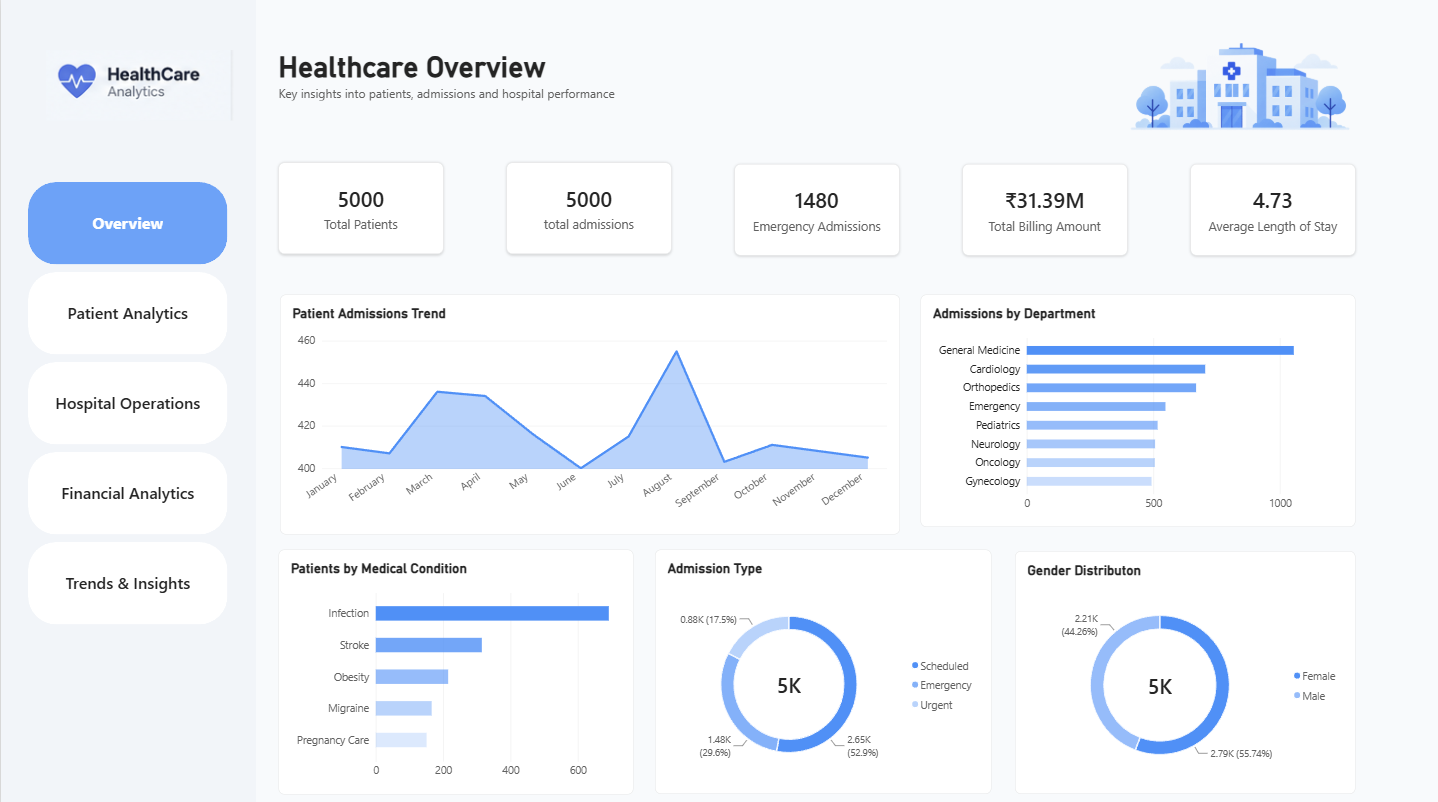

The dashboard page shown, as its layout file describes it:
{"tool":"powerbi","page":{"name":"Overview","canvas":[1920,1080],"ordinal":0},"visuals":[{"type":"card","fields":{"Values":["healthcare_dataset_clean.Total Patients"]},"box":[370,217.5,220,122],"z":0,"group":"g1"},{"type":"textbox","title":"Healthcare Overview","box":[370,68,550,150],"z":1000,"group":"g1"},{"type":"card","fields":{"Values":["healthcare_dataset_clean.Average Length of Stay"]},"box":[1585,220,220,122],"z":2000,"group":"g1"},{"type":"card","fields":{"Values":["healthcare_dataset_clean.Total Billing Amount"]},"box":[1281.2,220,220,122],"z":3000,"group":"g1"},{"type":"card","fields":{"Values":["healthcare_dataset_clean.total admissions"]},"box":[673.8,217.5,220,122],"z":4000,"group":"g1"},{"type":"card","fields":{"Values":["healthcare_dataset_clean.Emergency Admissions"]},"box":[977.5,220,220,122],"z":5000,"group":"g1"},{"type":"image","box":[1453.3,40,397.5,150],"z":6000,"group":"g1"},{"type":"lineChart","title":"Patient Admissions Trend","fields":{"Y":["healthcare_dataset_clean.total admissions"],"Category":["healthcare_dataset_clean.Admission_Date.Variation.Date Hierarchy.Month"]},"box":[372,394,826.7,320],"z":7000,"group":"g1"},{"type":"shape","box":[0,0,340,1080],"z":8000,"group":"g1"},{"type":"clusteredBarChart","title":"Admissions by Department","fields":{"Y":["healthcare_dataset_clean.total admissions"],"Category":["healthcare_dataset_clean.Department"]},"box":[1226.7,393.3,580,310],"z":9000,"group":"g1"},{"type":"clusteredBarChart","title":"Patients by Medical Condition","fields":{"Y":["CountNonNull(healthcare_dataset_clean.Patient_ID)"],"Category":["healthcare_dataset_clean.Medical_Condition"]},"box":[370,733.3,473.3,326.7],"z":10000,"group":"g1"},{"type":"donutChart","title":"Admission Type","fields":{"Category":["healthcare_dataset_clean.Admission_Type"],"Y":["CountNonNull(healthcare_dataset_clean.Patient_ID)"]},"box":[872.5,733.8,448.8,326.2],"z":11000,"group":"g1"},{"type":"donutChart","title":"Gender Distributon","fields":{"Y":["CountNonNull(healthcare_dataset_clean.Patient_ID)"],"Category":["healthcare_dataset_clean.Gender"]},"box":[1352,736,454,324],"z":12000,"group":"g1"},{"type":"image","box":[60,40,250,150],"z":13000,"group":"g1"},{"type":"textbox","box":[142,262,108,42],"z":14000,"group":"g1"},{"type":"pageNavigator","box":[36.7,243.3,266.7,590],"z":15000,"group":"g1"},{"type":"group","id":"g1","title":"Group 1","box":[0,0,1850.8,1080],"z":15001}]}

Visuals, with their boxes on the page's 1920x1080 design canvas (x1, y1, x2, y2). These are canvas units, not pixel positions in the 1438x802 screenshot, which may show the page scaled, cropped or inside an application window:
card - healthcare_dataset_clean.Total Patients: x1=370, y1=218, x2=590, y2=340
"Healthcare Overview" textbox: x1=370, y1=68, x2=920, y2=218
card - healthcare_dataset_clean.Average Length of Stay: x1=1585, y1=220, x2=1805, y2=342
card - healthcare_dataset_clean.Total Billing Amount: x1=1281, y1=220, x2=1501, y2=342
card - healthcare_dataset_clean.total admissions: x1=674, y1=218, x2=894, y2=340
card - healthcare_dataset_clean.Emergency Admissions: x1=978, y1=220, x2=1198, y2=342
image: x1=1453, y1=40, x2=1851, y2=190
"Patient Admissions Trend" lineChart: x1=372, y1=394, x2=1199, y2=714
shape: x1=0, y1=0, x2=340, y2=1080
"Admissions by Department" clusteredBarChart: x1=1227, y1=393, x2=1807, y2=703
"Patients by Medical Condition" clusteredBarChart: x1=370, y1=733, x2=843, y2=1060
"Admission Type" donutChart: x1=872, y1=734, x2=1321, y2=1060
"Gender Distributon" donutChart: x1=1352, y1=736, x2=1806, y2=1060
image: x1=60, y1=40, x2=310, y2=190
textbox: x1=142, y1=262, x2=250, y2=304
pageNavigator: x1=37, y1=243, x2=303, y2=833
"Group 1" group: x1=0, y1=0, x2=1851, y2=1080
